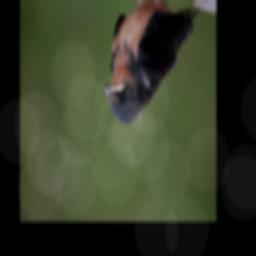Swallow: (102, 0, 200, 126)
